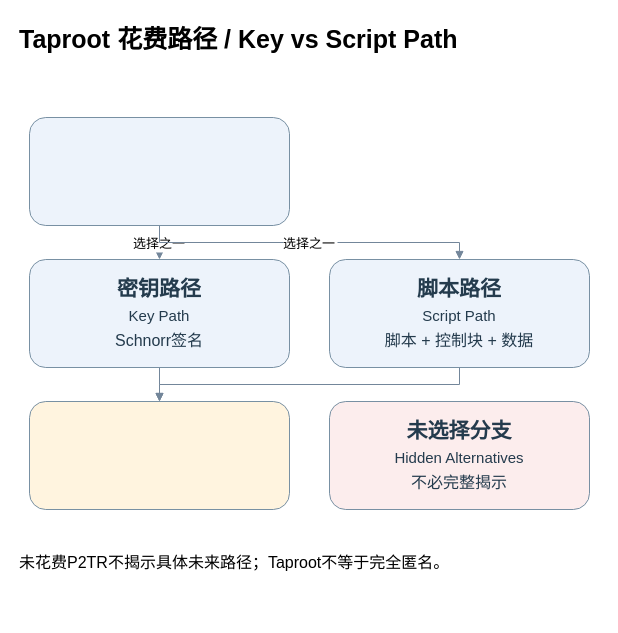
Some shapes in this 618 by 633 pixel diagram are drawn without their labels. The box of each missing label's shape, as (x1, y1, x2, y2) in pixels:
P2TR输出 Output Commitment 输出公钥: (28, 116, 290, 226)
公开适用信息 Observed Spend 只见所选路径所需内容: (28, 400, 290, 510)
